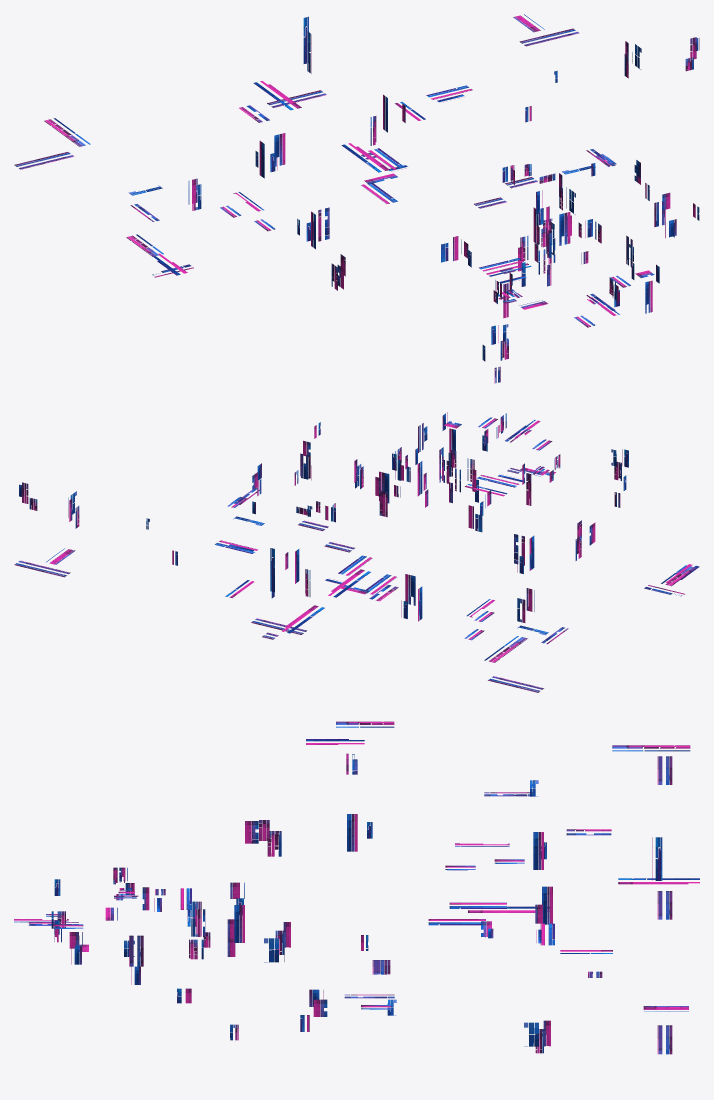
The model's file is lightshade.FBX.
3 renders of one model, top to bottom at view 1: azimuth 30°, elevation 25°; view 2: azimuth 150°, elevation 25°; view 3: azimuth 270°, elevation 25°, orthographic. The views are drawn at different scales.
Parts seen in each view (by area): view 1: Object004, Object030, Object005, Object013, Object027, Object012; view 2: Object004, Object005, Object030, Object027, Object013, Object001, Object012, Object026; view 3: Object004, Object014, Object005, Object012, Object032, Object027, Object002, Object033, Object001.
Boxes of the visible parts, bbox=[...] form: Object004: bbox=[253, 16, 326, 110]; Object030: bbox=[255, 133, 285, 178]; Object005: bbox=[14, 118, 90, 169]; Object013: bbox=[297, 207, 329, 249]; Object027: bbox=[341, 143, 404, 172]; Object012: bbox=[126, 234, 193, 277]; Object004: bbox=[251, 548, 324, 634]; Object005: bbox=[484, 636, 543, 692]; Object030: bbox=[401, 574, 422, 621]; Object027: bbox=[328, 555, 372, 597]; Object013: bbox=[514, 534, 534, 573]; Object001: bbox=[14, 548, 75, 577]; Object012: bbox=[644, 564, 699, 596]; Object026: bbox=[379, 471, 389, 517]; Object004: bbox=[618, 837, 699, 919]; Object014: bbox=[245, 820, 281, 856]; Object005: bbox=[612, 745, 690, 784]; Object012: bbox=[306, 721, 394, 774]; Object032: bbox=[227, 905, 244, 956]; Object027: bbox=[449, 902, 549, 912]; Object002: bbox=[524, 1020, 550, 1053]; Object033: bbox=[124, 935, 143, 984]; Object001: bbox=[643, 1006, 688, 1054].
Size of the model in its own units: 5540 by 1159 by 4737.
